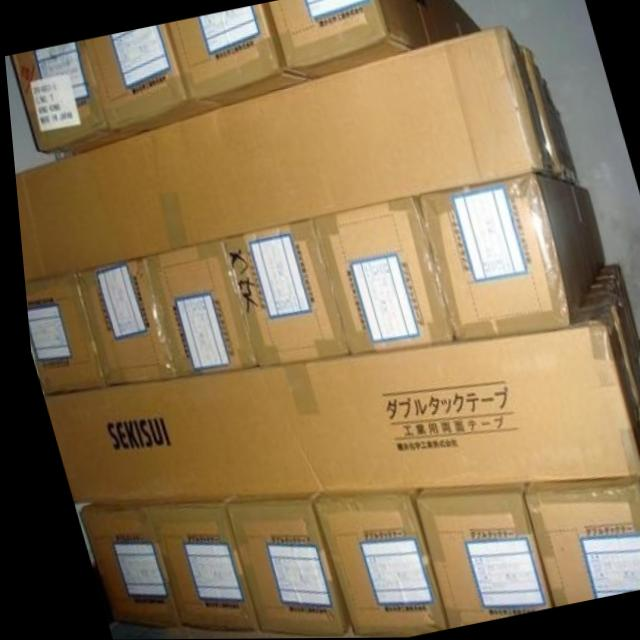box: (12, 25, 553, 280), (38, 307, 639, 505), (416, 173, 604, 341), (514, 431, 640, 604), (315, 199, 451, 353), (301, 487, 436, 638), (405, 485, 540, 624), (219, 223, 347, 365), (218, 494, 338, 633), (270, 0, 483, 78), (8, 42, 149, 156), (86, 23, 224, 129), (138, 498, 249, 629), (146, 239, 251, 375), (170, 8, 311, 107), (69, 256, 172, 386), (69, 505, 168, 624), (20, 274, 100, 396), (581, 290, 640, 434), (524, 48, 567, 181), (588, 278, 637, 369), (598, 261, 637, 350), (552, 108, 575, 184)
